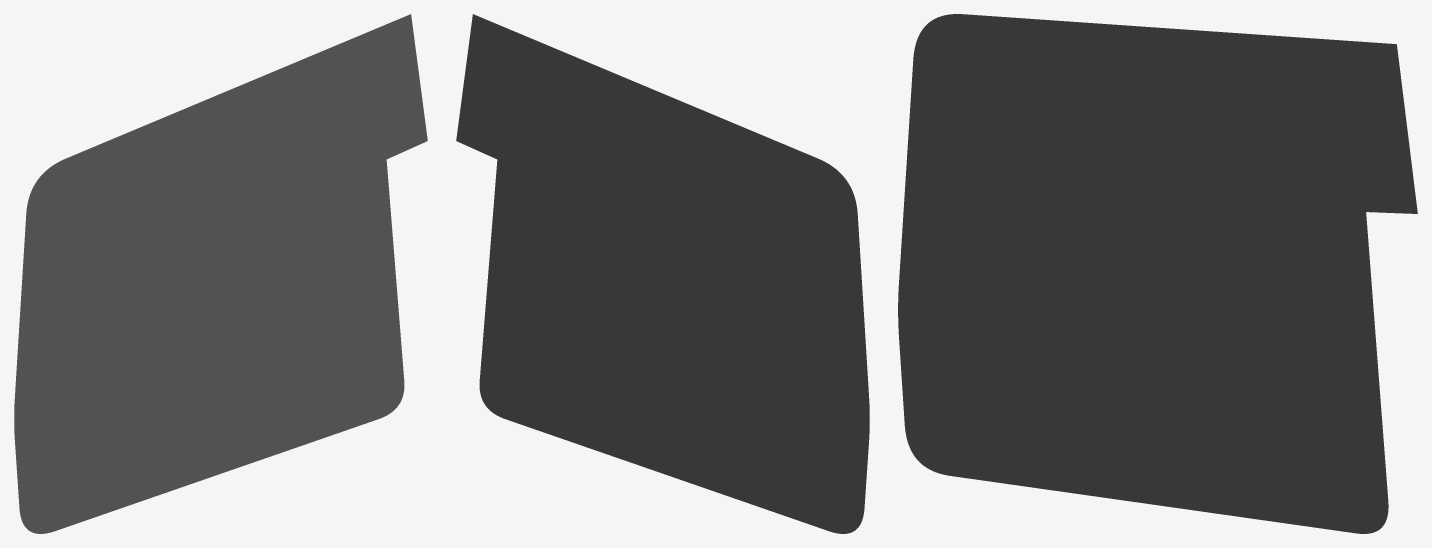
The model's file is road_surface_visual.obj.
The picture shows the model from 3 angles, left to right: view 1: azimuth 30°, elevation 25°; view 2: azimuth 150°, elevation 25°; view 3: azimuth 330°, elevation 25°; orthographic projection. The views are drawn at different scales.
Visible parts, largest first — view 1: road_surface_visual; view 2: road_surface_visual; view 3: road_surface_visual.
Boxes of the visible parts, left/top/right/bottom form: road_surface_visual: left=14, top=14, right=427, bottom=533; road_surface_visual: left=456, top=14, right=869, bottom=533; road_surface_visual: left=898, top=14, right=1417, bottom=533.
Bounding box in the file's own units: 91.5 × 91.01 × 0.
Materials: 1 (1 with a texture image).
